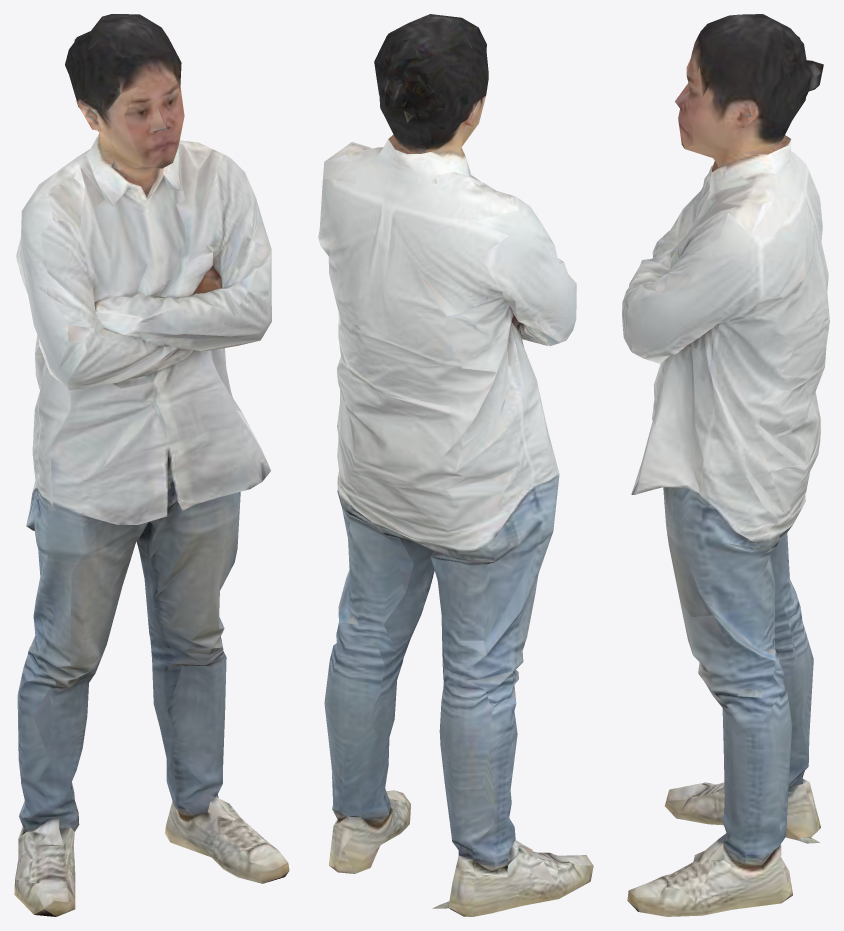
3 views of the same model, side by side, from view 1: azimuth 30°, elevation 25°; view 2: azimuth 150°, elevation 25°; view 3: azimuth 270°, elevation 25° (orthographic).
Parts seen in each view (by area): view 1: Object_3.001; view 2: Object_3.001; view 3: Object_3.001.
Part boxes in pixels (box(x1,y1,x2,y2)): Object_3.001: box(14, 14, 289, 916); Object_3.001: box(318, 14, 593, 916); Object_3.001: box(622, 14, 829, 916).
Size of the model in its own units: 0.525 by 1.77 by 0.3948.
1 material, 1 textured.
